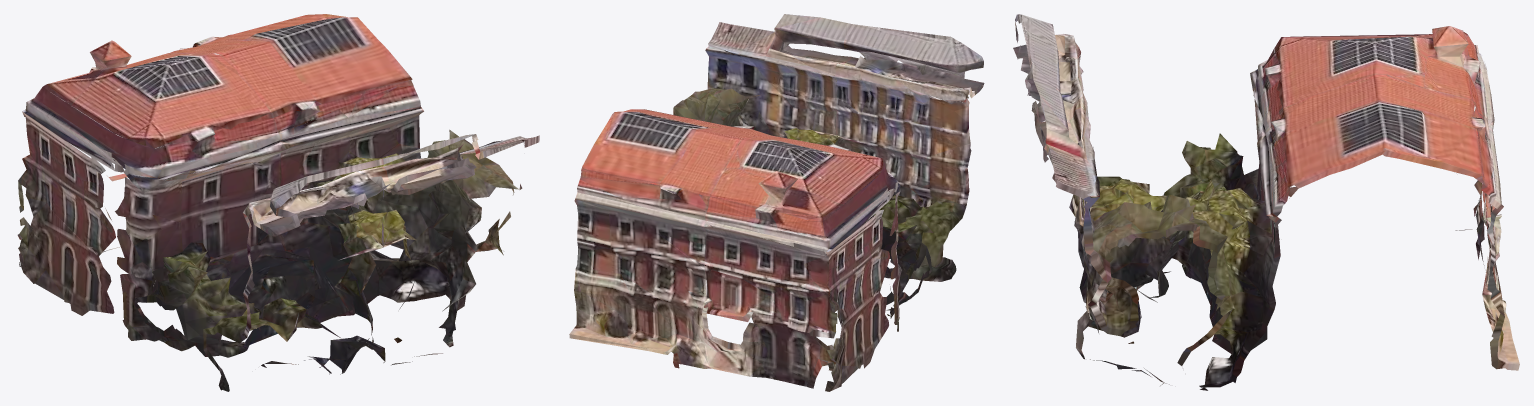
3 renders of one model, left to right at view 1: azimuth 30°, elevation 25°; view 2: azimuth 150°, elevation 25°; view 3: azimuth 270°, elevation 25°, orthographic. The views are drawn at different scales.
Visible parts, largest first — view 1: Mesh_0; view 2: Mesh_0; view 3: Mesh_0.
Boxes of the visible parts, box(x1,y1,x2,y2) form: Mesh_0: box(17, 14, 539, 391); Mesh_0: box(569, 14, 984, 391); Mesh_0: box(1013, 14, 1519, 390).
Bounding box in the file's own units: 33.77 × 23.45 × 41.39.
1 material, 1 textured.
